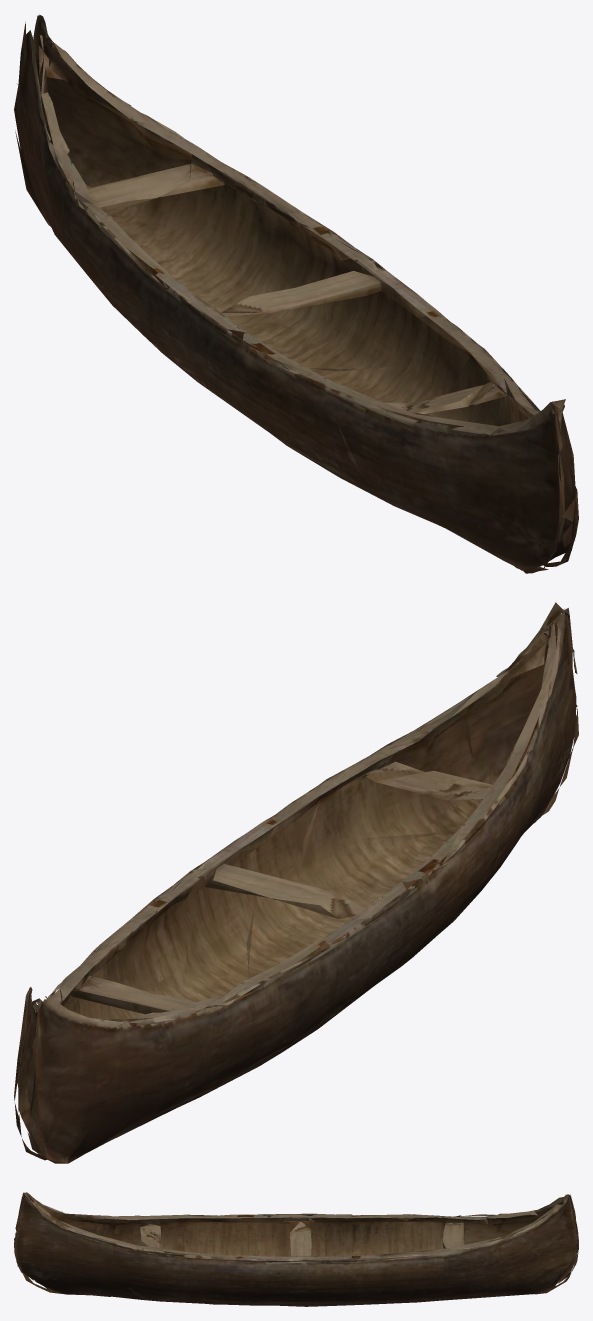
File: canoe.phone.glb
3 renders of one model, top to bottom at view 1: azimuth 30°, elevation 25°; view 2: azimuth 150°, elevation 25°; view 3: azimuth 270°, elevation 25°, orthographic. The views are drawn at different scales.
Parts seen in each view (by area): view 1: canoe-phone; view 2: canoe-phone; view 3: canoe-phone.
Boxes of the visible parts, x1=… form: canoe-phone: x1=14, y1=14, x2=578, y2=573; canoe-phone: x1=14, y1=602, x2=578, y2=1163; canoe-phone: x1=14, y1=1192, x2=578, y2=1306.
Bounding box in the file's own units: 1.02 × 1.01 × 5.
Materials: 1 (1 with a texture image).
